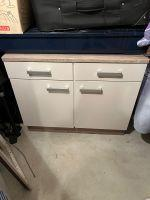cabinet_door: (74, 81, 139, 130), (16, 81, 75, 128), (74, 61, 146, 81), (5, 61, 73, 80)
handle: (97, 68, 125, 81), (27, 67, 54, 79), (45, 85, 72, 96), (78, 86, 104, 97)
